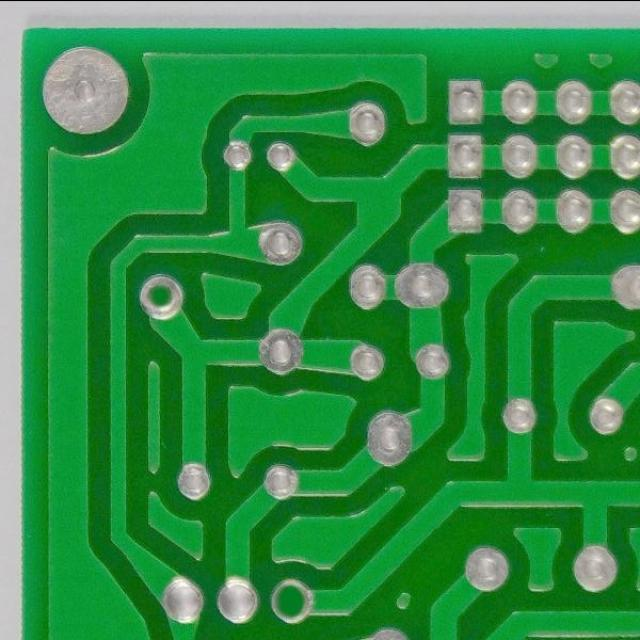missing_hole: (136, 272, 184, 321), (269, 576, 312, 623)
